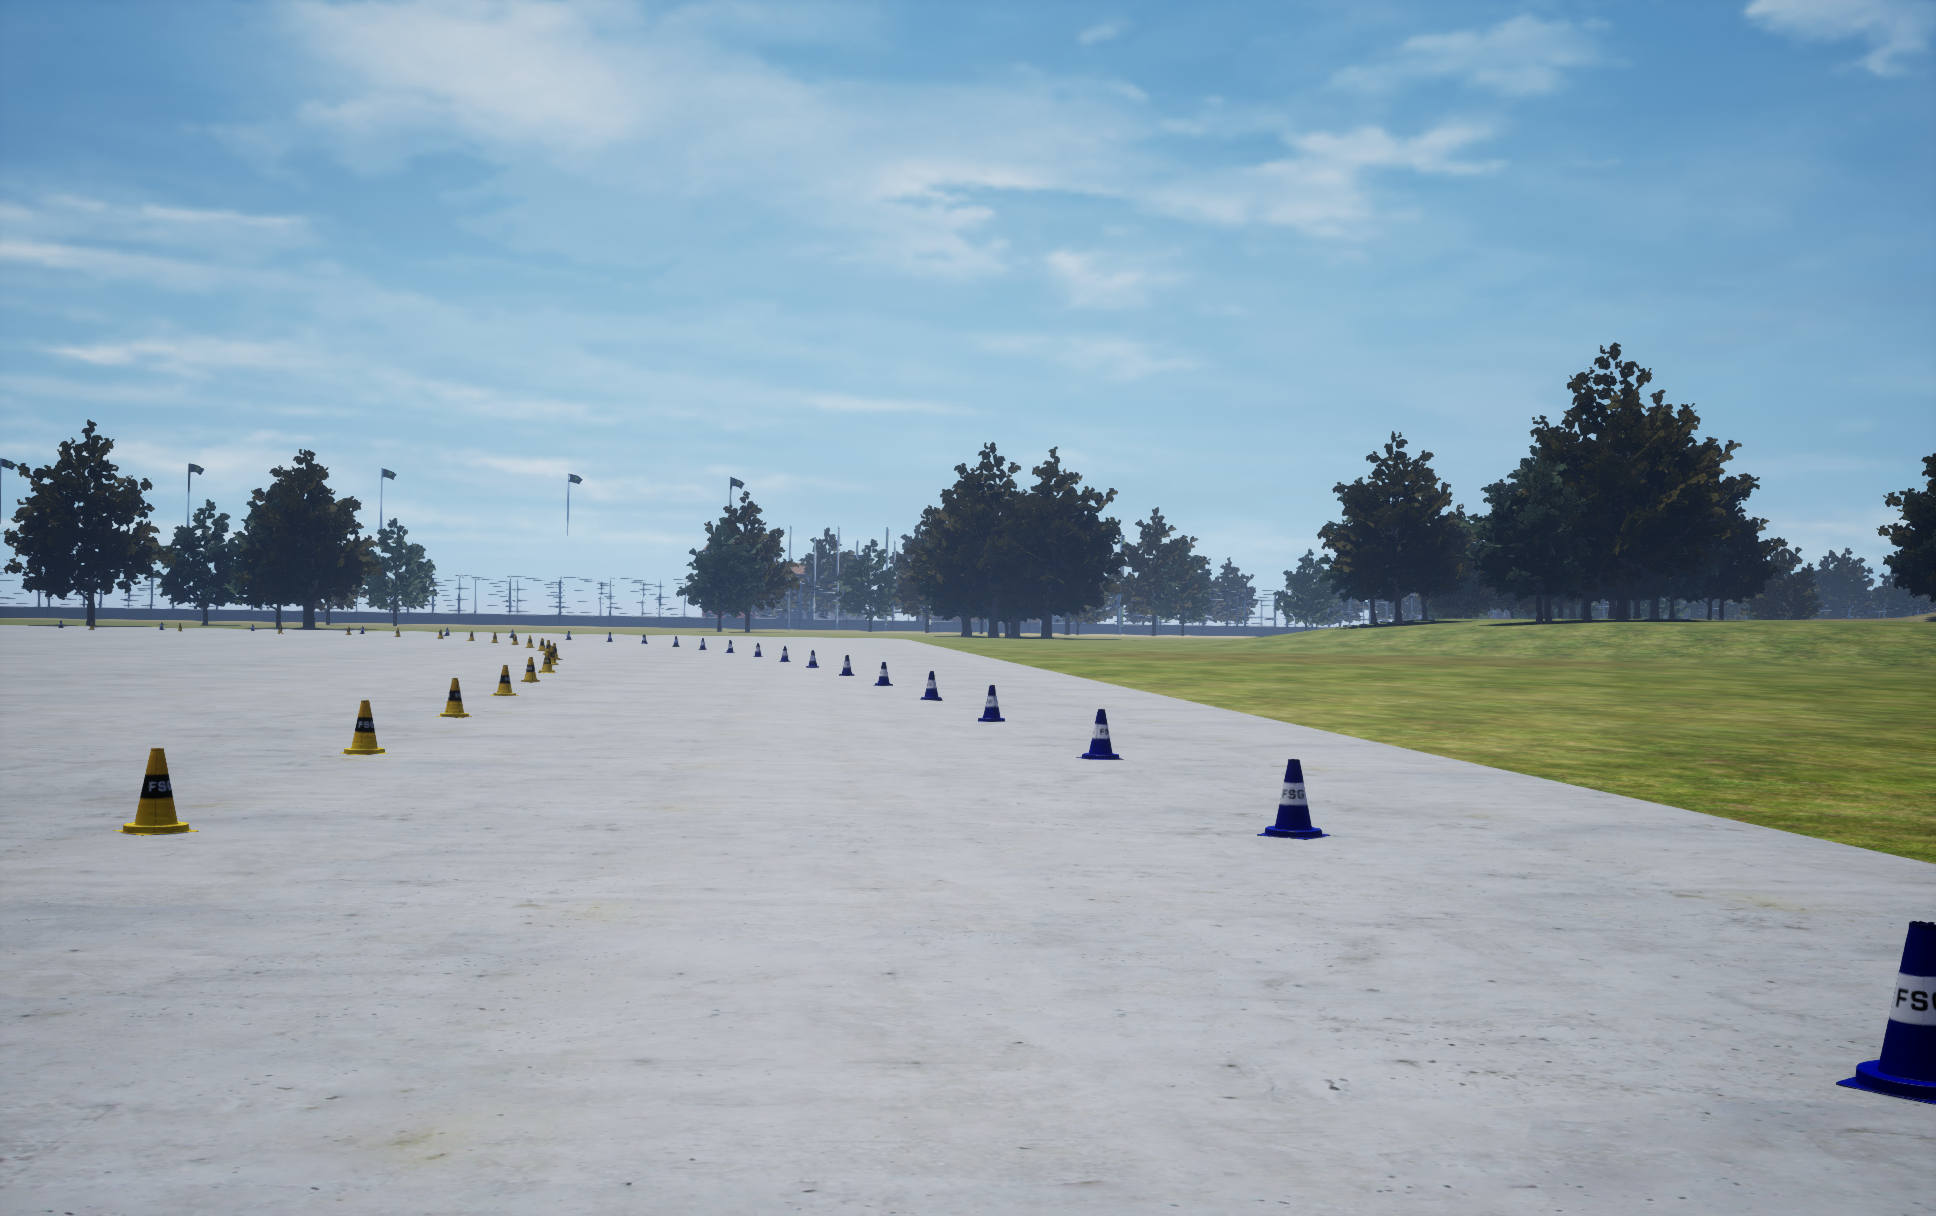blue: (113, 748, 198, 835), (340, 700, 387, 754), (436, 678, 471, 717), (490, 665, 518, 695), (521, 657, 539, 682), (538, 651, 556, 672)
yellow: (1837, 920, 1935, 1104), (1257, 759, 1329, 839), (1076, 709, 1123, 759), (978, 685, 1004, 721), (920, 671, 941, 700), (873, 663, 892, 685), (839, 656, 855, 675), (805, 650, 818, 667)
